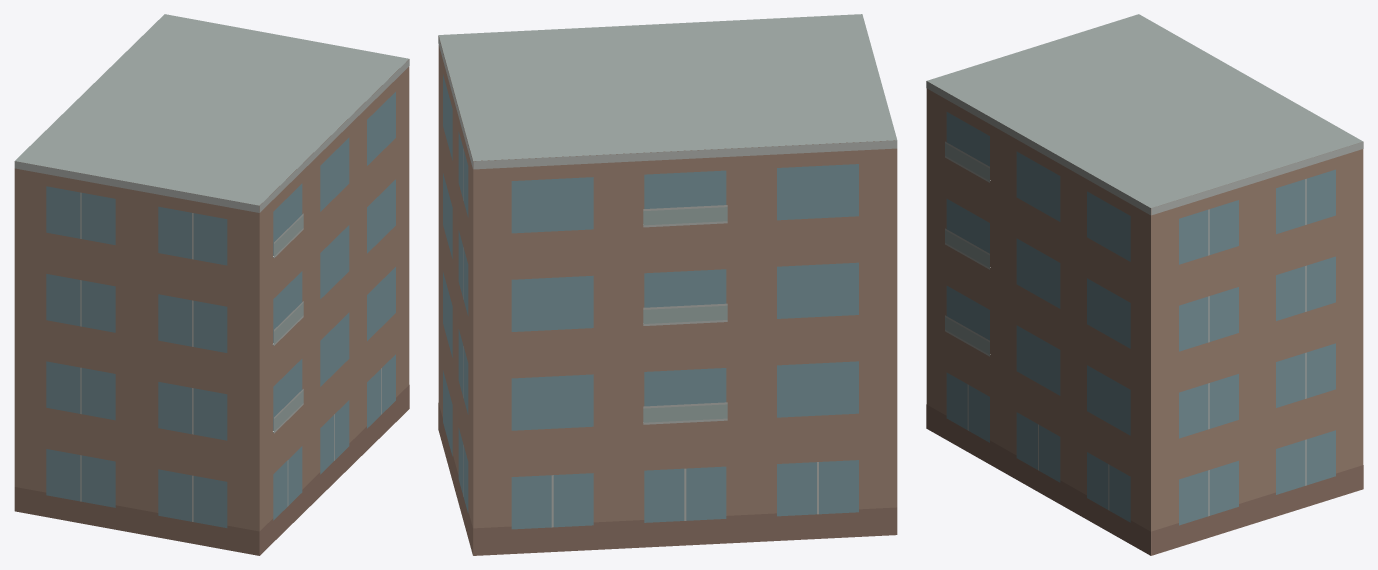
The model's file is residential-06c79313-3206-4df7-a362-13b3e0d7fb00.glb.
3 views of the same model, side by side, from view 1: azimuth 30°, elevation 25°; view 2: azimuth 150°, elevation 25°; view 3: azimuth 270°, elevation 25° (orthographic). The views are drawn at different scales.
Parts seen in each view (by area): view 1: residential-06c79313-3206-4df7-a362-13b3e0d7fb00.tmp; view 2: residential-06c79313-3206-4df7-a362-13b3e0d7fb00.tmp; view 3: residential-06c79313-3206-4df7-a362-13b3e0d7fb00.tmp.
Part boxes in pixels (box(x1,y1,x2,y2)): residential-06c79313-3206-4df7-a362-13b3e0d7fb00.tmp: box(14, 14, 409, 555); residential-06c79313-3206-4df7-a362-13b3e0d7fb00.tmp: box(438, 14, 897, 555); residential-06c79313-3206-4df7-a362-13b3e0d7fb00.tmp: box(926, 14, 1363, 555).
Bounding box in the file's own units: 13.91 × 11.6 × 13.22.
